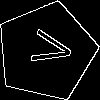V: (21, 26, 75, 69)
